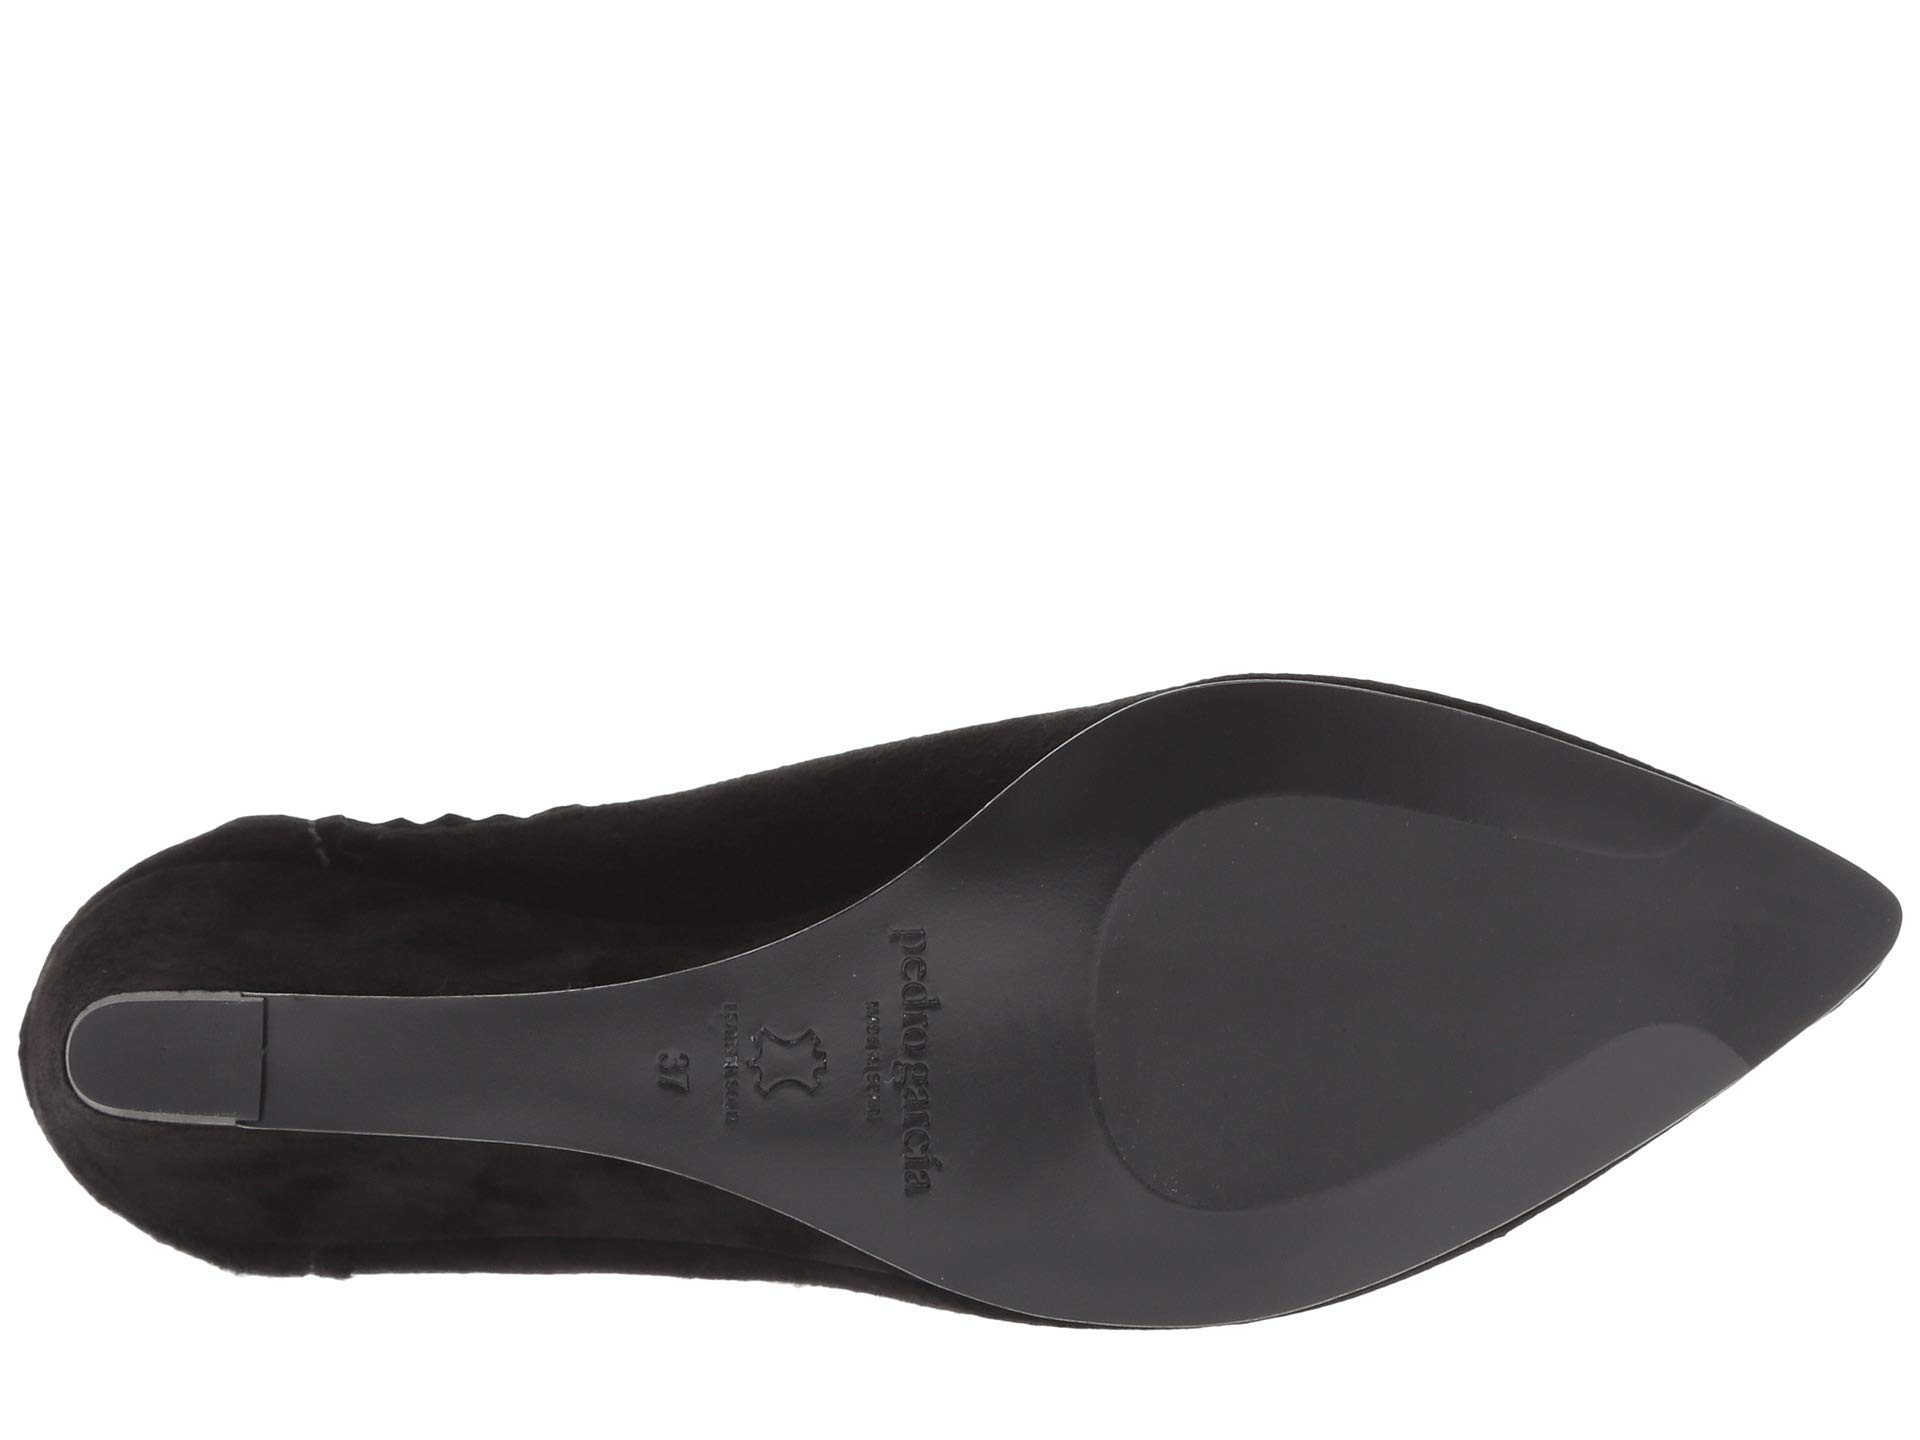exclude: (2, 684, 1206, 1354)
line: (1111, 761, 1560, 1166)
